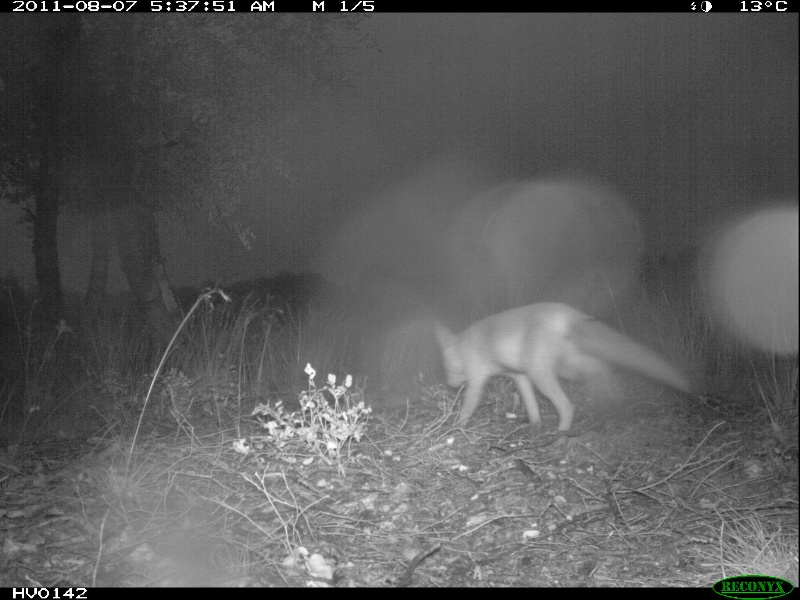fox: (424, 297, 700, 434)
